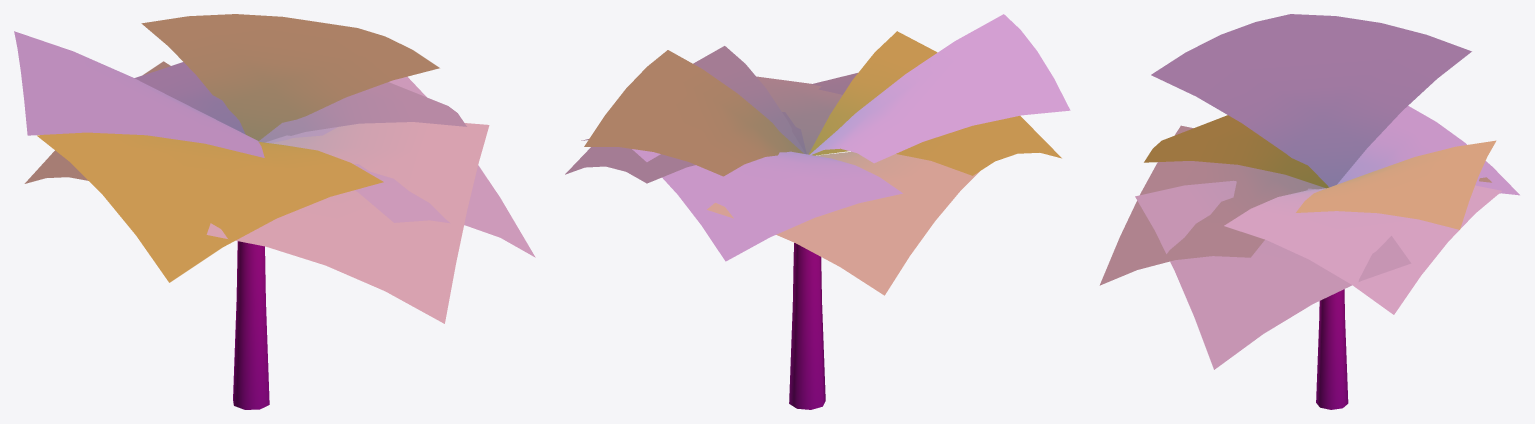
Rendered from tv_banana.glb.
The picture shows the model from 3 angles, left to right: view 1: azimuth 30°, elevation 25°; view 2: azimuth 150°, elevation 25°; view 3: azimuth 270°, elevation 25°; orthographic projection. The views are drawn at different scales.
Parts seen in each view (by area): view 1: tv_banana_v0_lod0; view 2: tv_banana_v0_lod0; view 3: tv_banana_v0_lod0.
Boxes of the visible parts, x1,y1,x2,y2 form: tv_banana_v0_lod0: [14, 14, 535, 409]; tv_banana_v0_lod0: [565, 14, 1070, 409]; tv_banana_v0_lod0: [1099, 14, 1519, 409].
Size of what is drawn, in the model's own units: 5.53 by 4.07 by 5.21.
